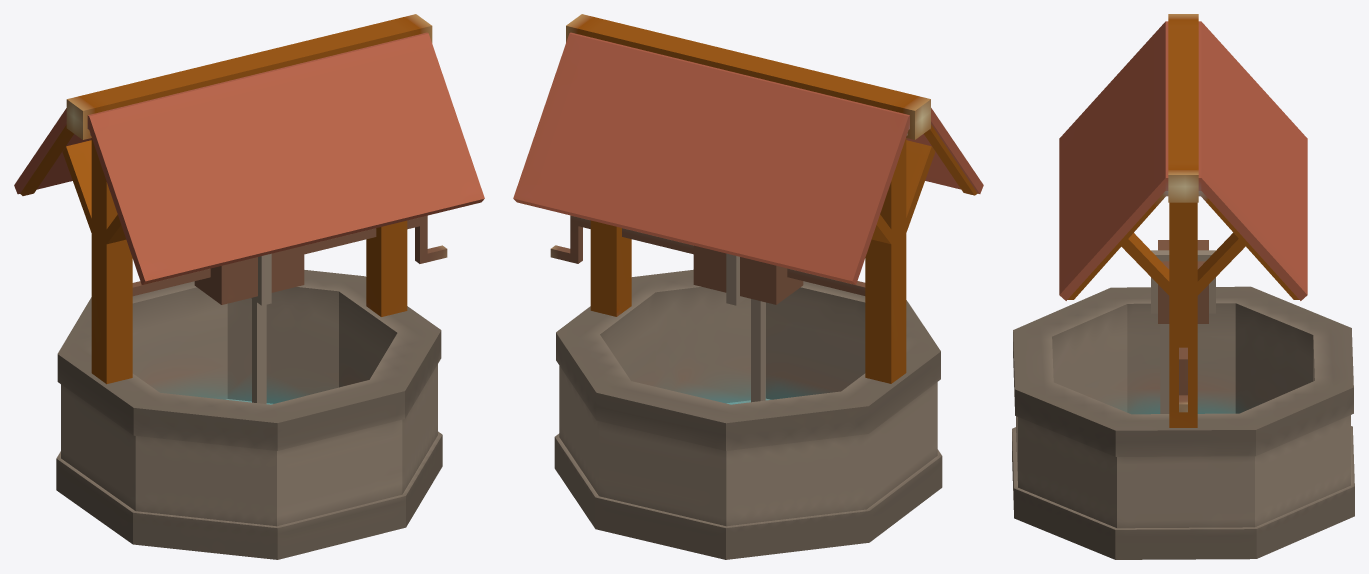
File: kit-well-roofed.glb
3 renders of one model, left to right at view 1: azimuth 30°, elevation 25°; view 2: azimuth 150°, elevation 25°; view 3: azimuth 270°, elevation 25°, orthographic. The views are drawn at different scales.
Visible parts, largest first — view 1: Cylinder.048; view 2: Cylinder.048; view 3: Cylinder.048.
Part boxes in pixels (box(x1,y1,x2,y2)): Cylinder.048: box(14, 14, 484, 559); Cylinder.048: box(513, 14, 983, 559); Cylinder.048: box(1012, 14, 1354, 559).
Size of the model in its own units: 1.85 by 1.99 by 1.57.
1 material, 1 textured.
